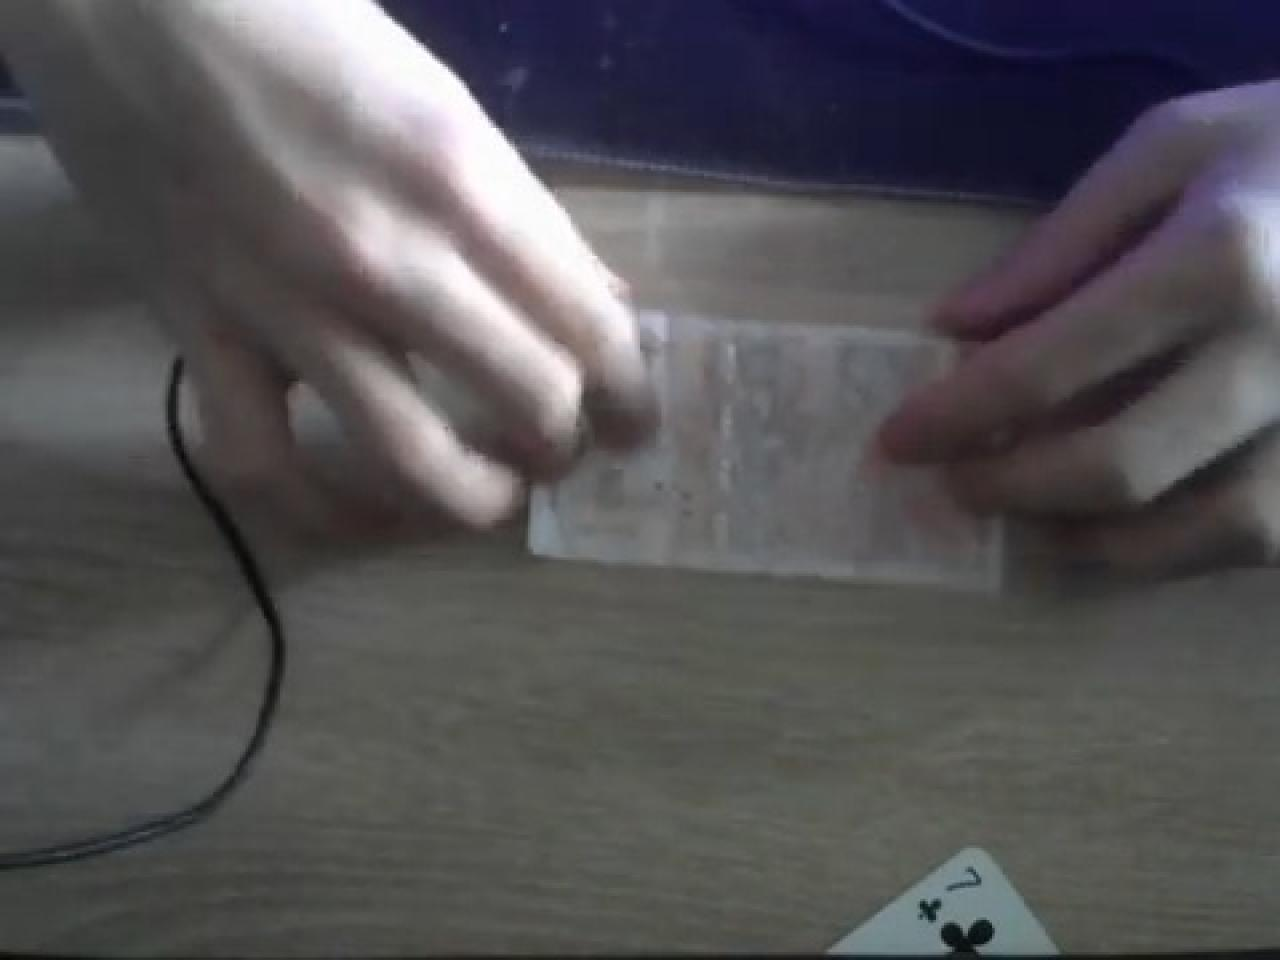5leva: (525, 182, 1011, 595)
